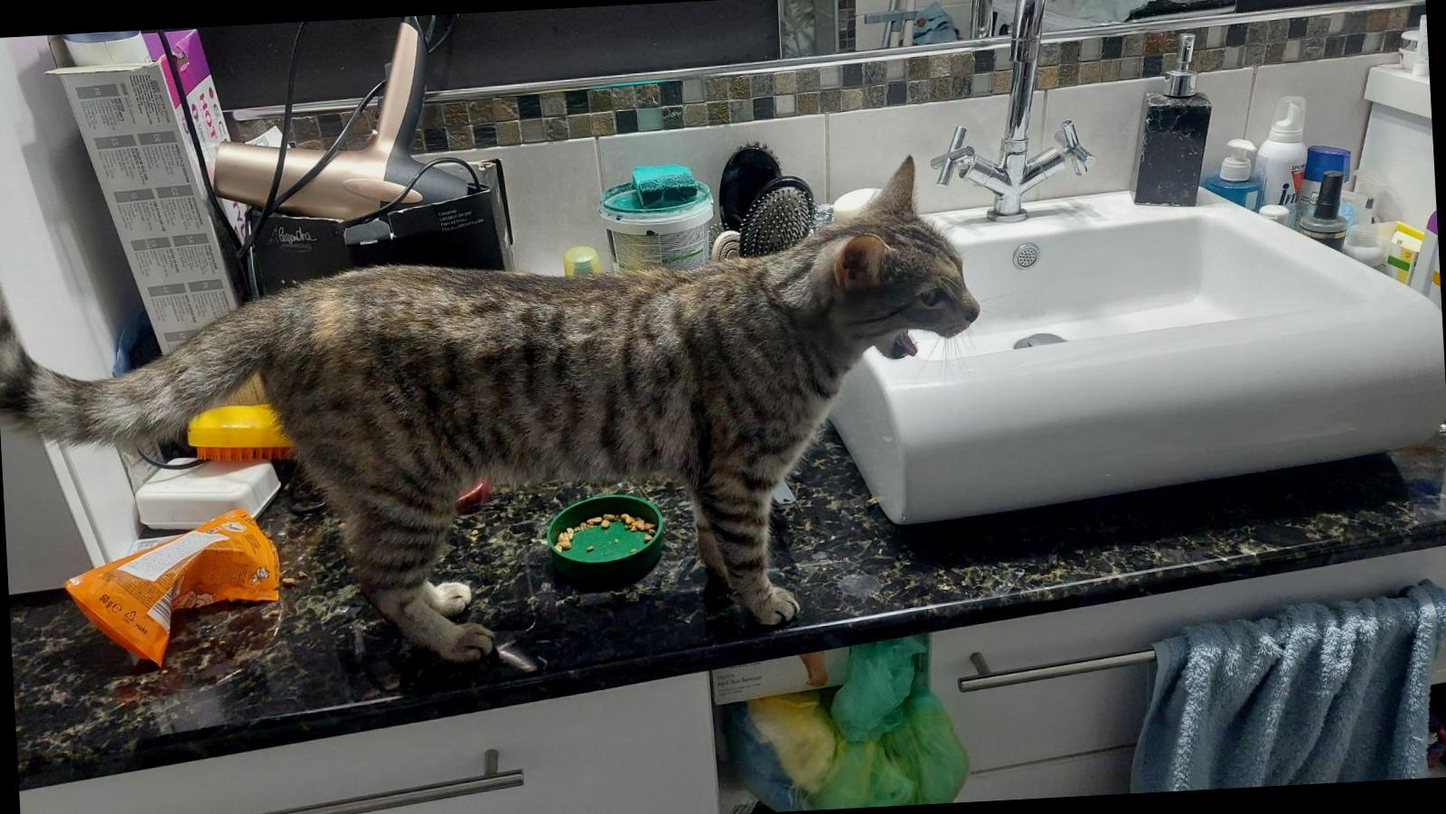macka: (0, 150, 999, 685)
